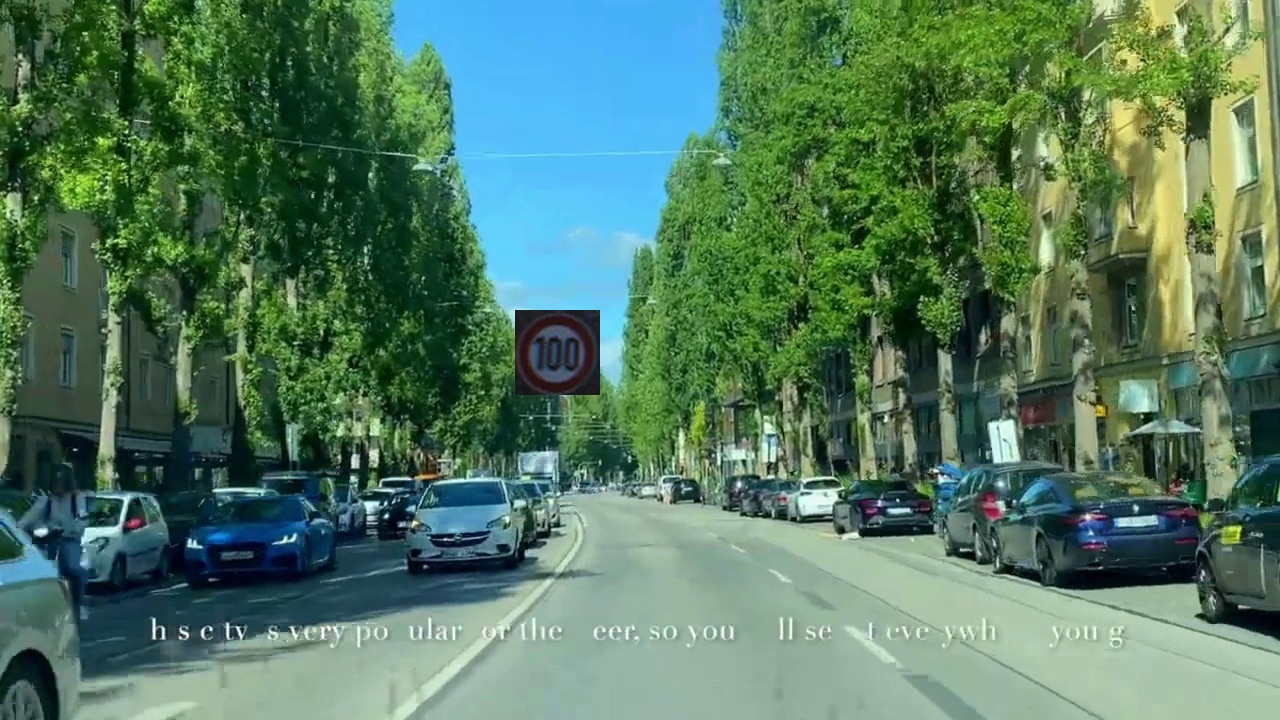Speed 100: (515, 310, 600, 395)
